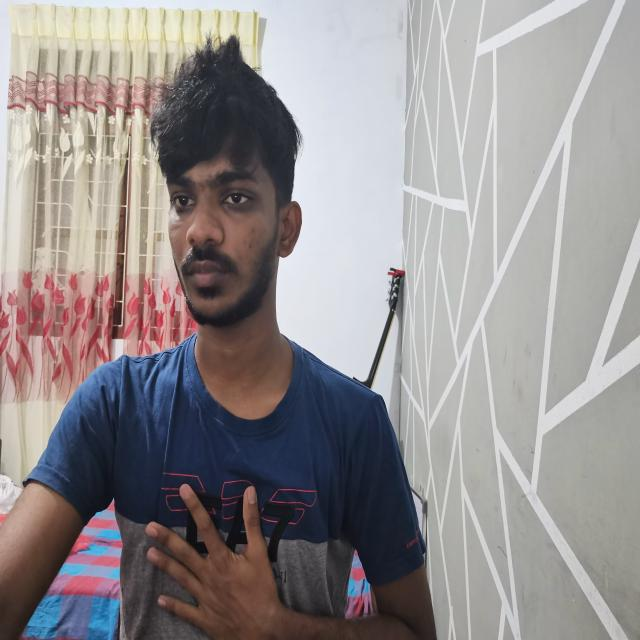Please: (145, 467, 435, 637)
